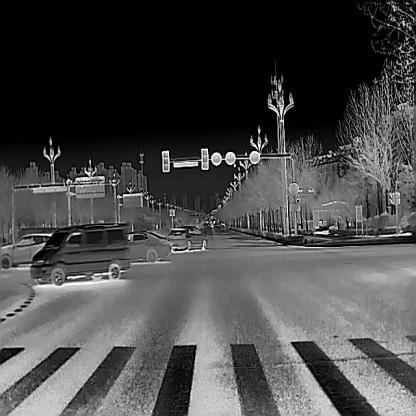car: (28, 221, 130, 285), (0, 232, 51, 268), (127, 228, 171, 262), (168, 224, 207, 253)
